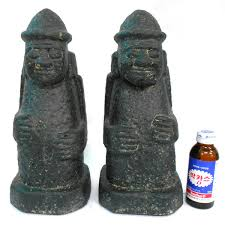Stone Statue: (85, 6, 192, 216), (5, 3, 93, 219)
